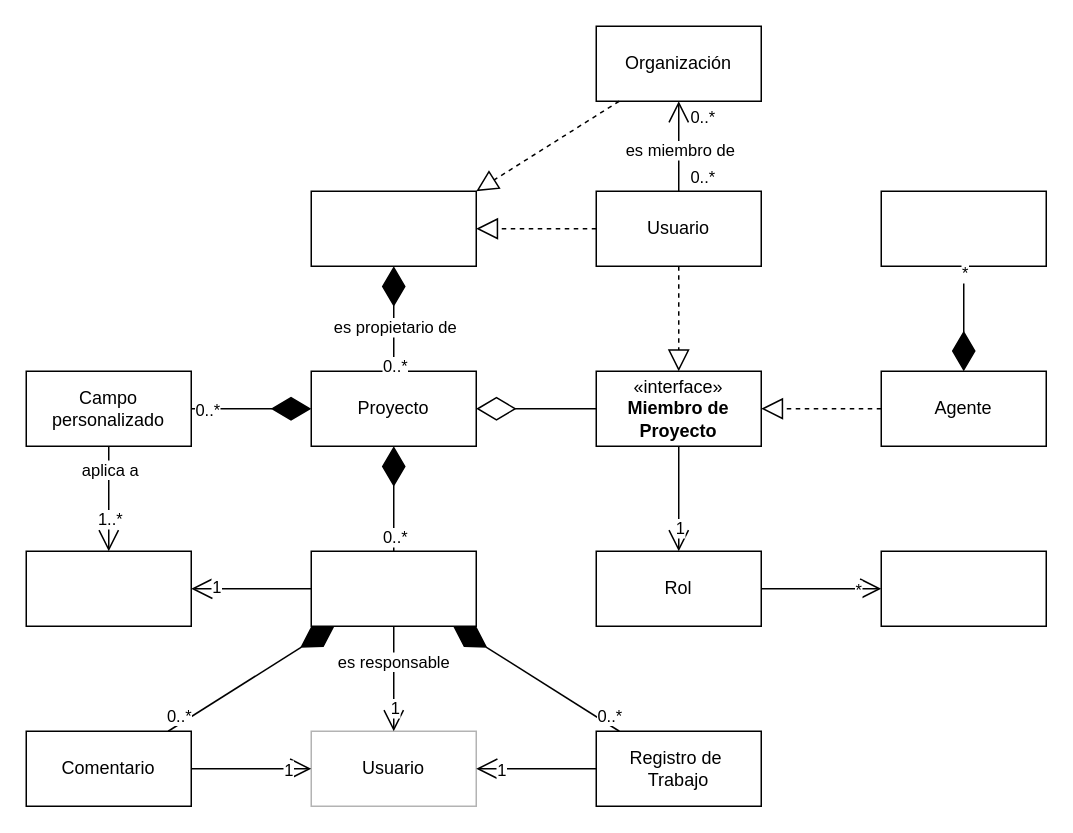
Image size: 1073x833. Some labels were removed from this diagram. The box of each missing label's shape, as (x1, y1, x2, y2) in pixels:
Ejecución: (880, 190, 1046, 266)
Elemento de Trabajo: (310, 550, 476, 626)
Permiso: (880, 550, 1046, 626)
Tipo de Elemento de Trabajo: (25, 550, 191, 626)
«interface» Propietario Proyecto: (310, 190, 476, 266)
